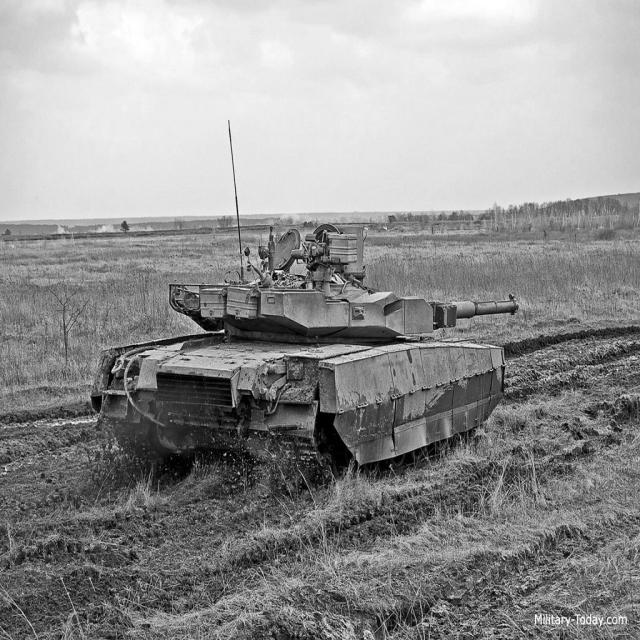Tank: (91, 223, 526, 472)
